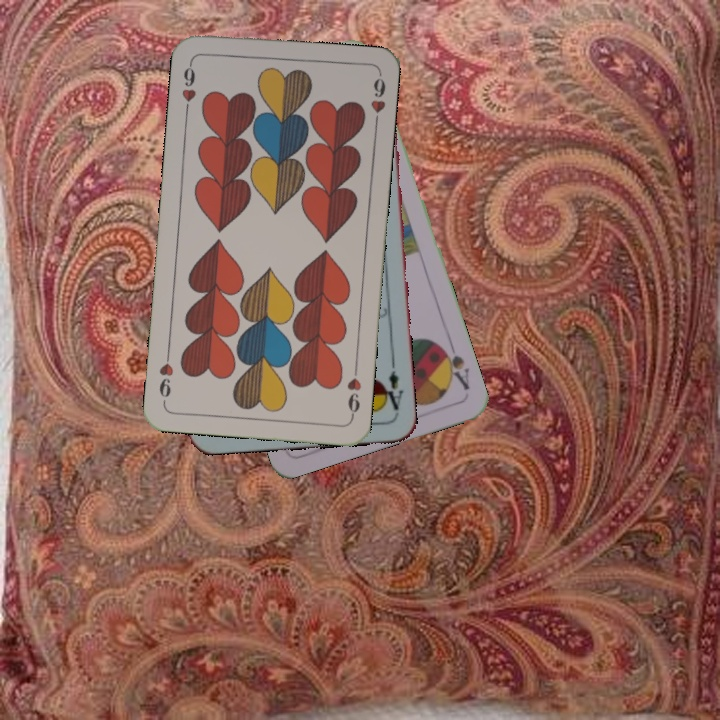EA: (378, 357, 406, 416)
H9: (177, 57, 199, 116), (343, 361, 364, 420)
SA: (435, 337, 472, 393)
